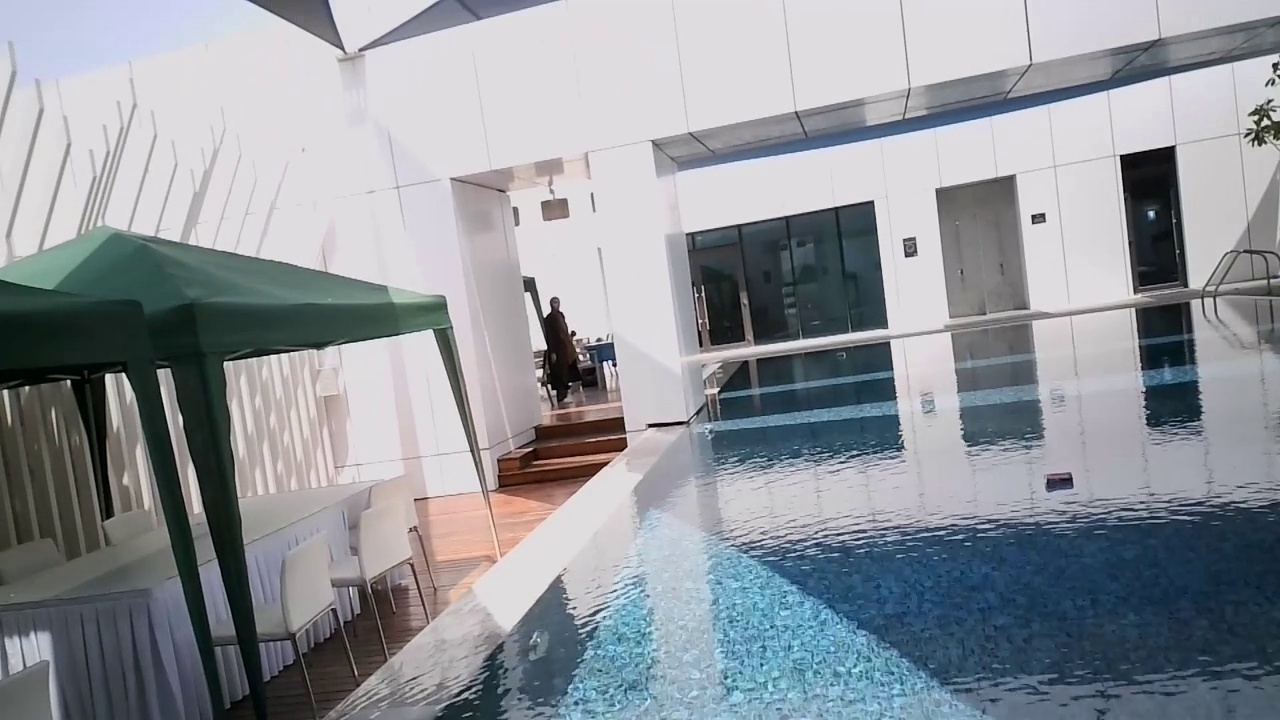debris: (1038, 467, 1077, 497), (702, 420, 717, 439), (832, 348, 847, 362)
